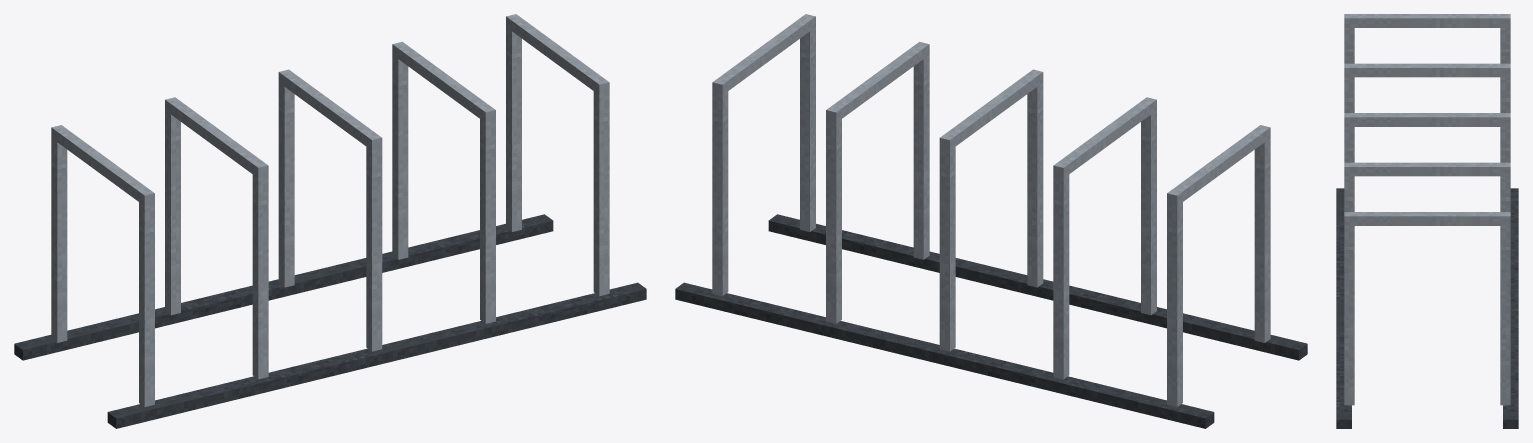
3 views of the same model, side by side, from view 1: azimuth 30°, elevation 25°; view 2: azimuth 150°, elevation 25°; view 3: azimuth 270°, elevation 25° (orthographic). The views are drawn at different scales.
Visible parts, largest first — view 1: Decor_bike_rack; view 2: Decor_bike_rack; view 3: Decor_bike_rack.
Part boxes in pixels (bbox=[...]): Decor_bike_rack: bbox=[14, 14, 646, 428]; Decor_bike_rack: bbox=[675, 14, 1307, 428]; Decor_bike_rack: bbox=[1336, 14, 1518, 428].
Size of the model in its own units: 2.1 by 0.84 by 0.7.
2 materials, 2 textured.
